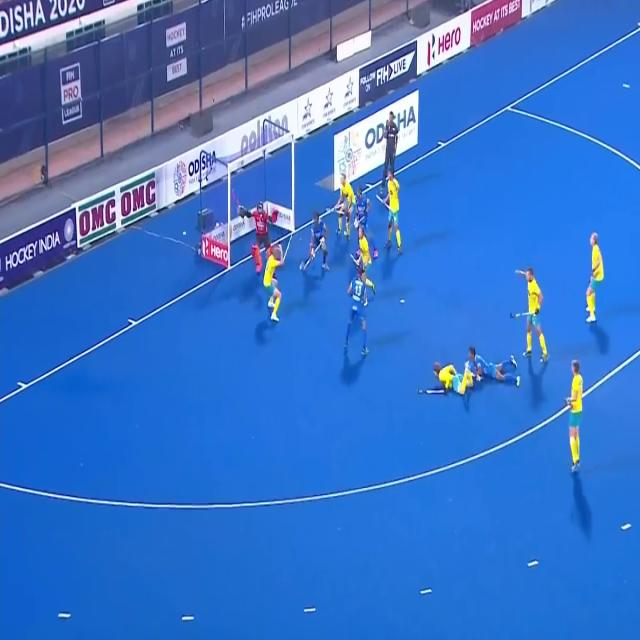ball: (181, 226, 187, 239)
